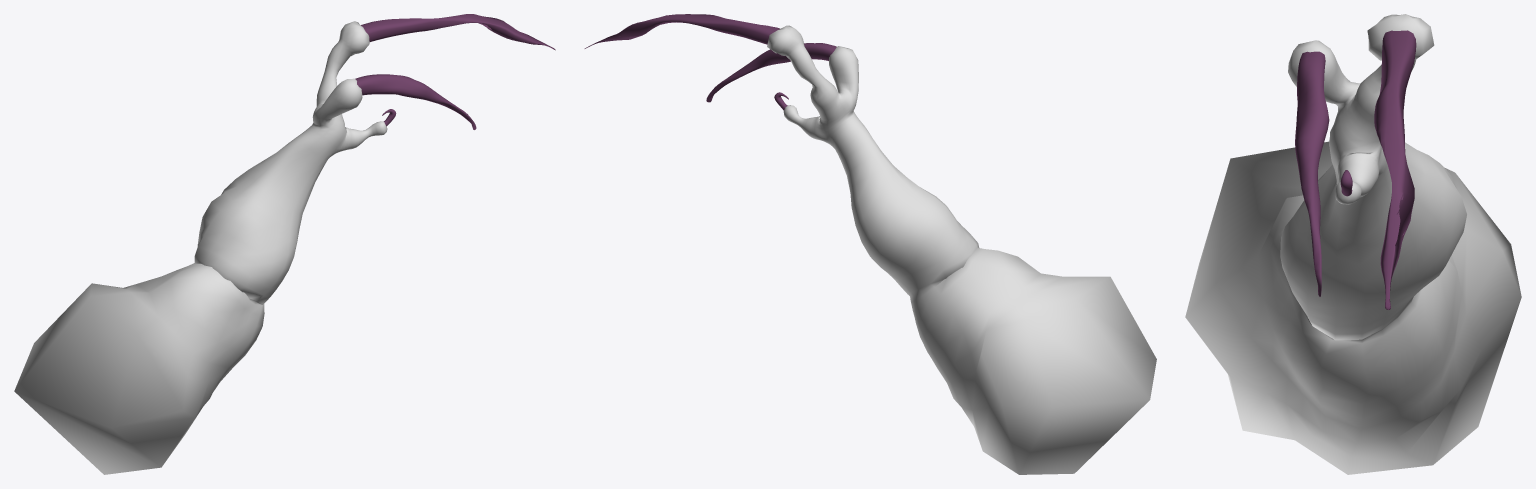
The model's file is ClawReal.fbx.
The picture shows the model from 3 angles, left to right: view 1: azimuth 30°, elevation 25°; view 2: azimuth 150°, elevation 25°; view 3: azimuth 270°, elevation 25°; orthographic projection. The views are drawn at different scales.
Visible parts, largest first — view 1: kaedim_mesh_0, kaedim_mesh_2, kaedim_mesh_3; view 2: kaedim_mesh_0, kaedim_mesh_2, kaedim_mesh_3; view 3: kaedim_mesh_0, kaedim_mesh_2, kaedim_mesh_3.
Part boxes in pixels (bbox=[...]): kaedim_mesh_0: bbox=[14, 21, 387, 474]; kaedim_mesh_2: bbox=[361, 14, 555, 50]; kaedim_mesh_3: bbox=[355, 74, 476, 129]; kaedim_mesh_0: bbox=[767, 25, 1156, 474]; kaedim_mesh_2: bbox=[584, 14, 779, 48]; kaedim_mesh_3: bbox=[706, 43, 836, 102]; kaedim_mesh_0: bbox=[1185, 14, 1521, 474]; kaedim_mesh_2: bbox=[1374, 30, 1416, 309]; kaedim_mesh_3: bbox=[1295, 51, 1329, 296].
Size of the model in its own units: 373 by 247 by 114.
